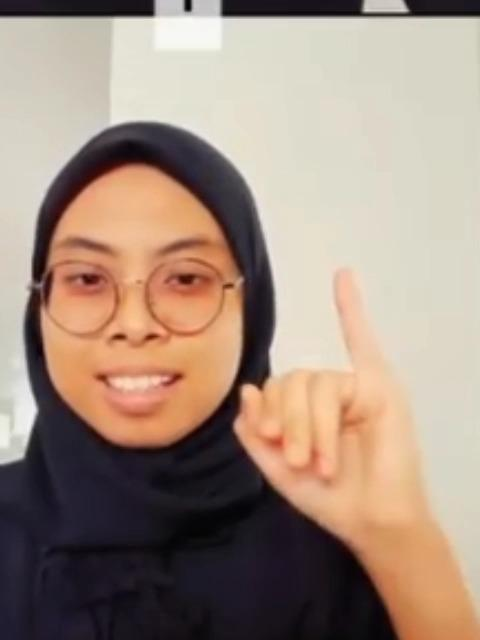I: (228, 264, 422, 530)
